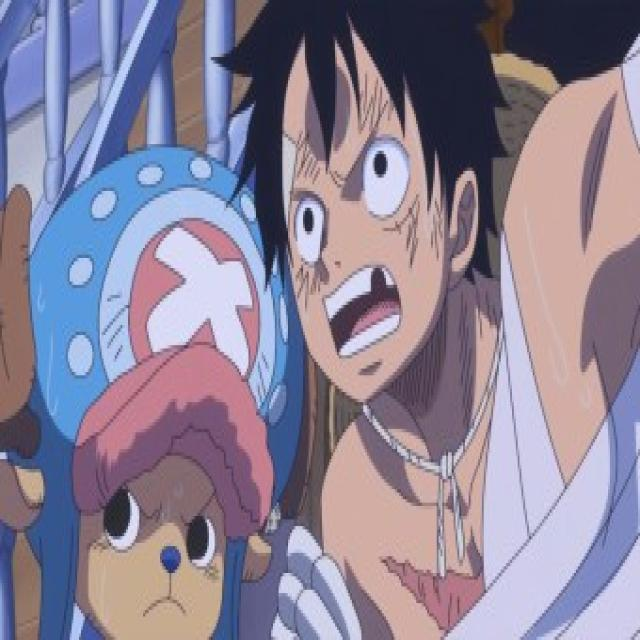Chyopa: (0, 145, 294, 640)
Luffy: (244, 4, 512, 408)
